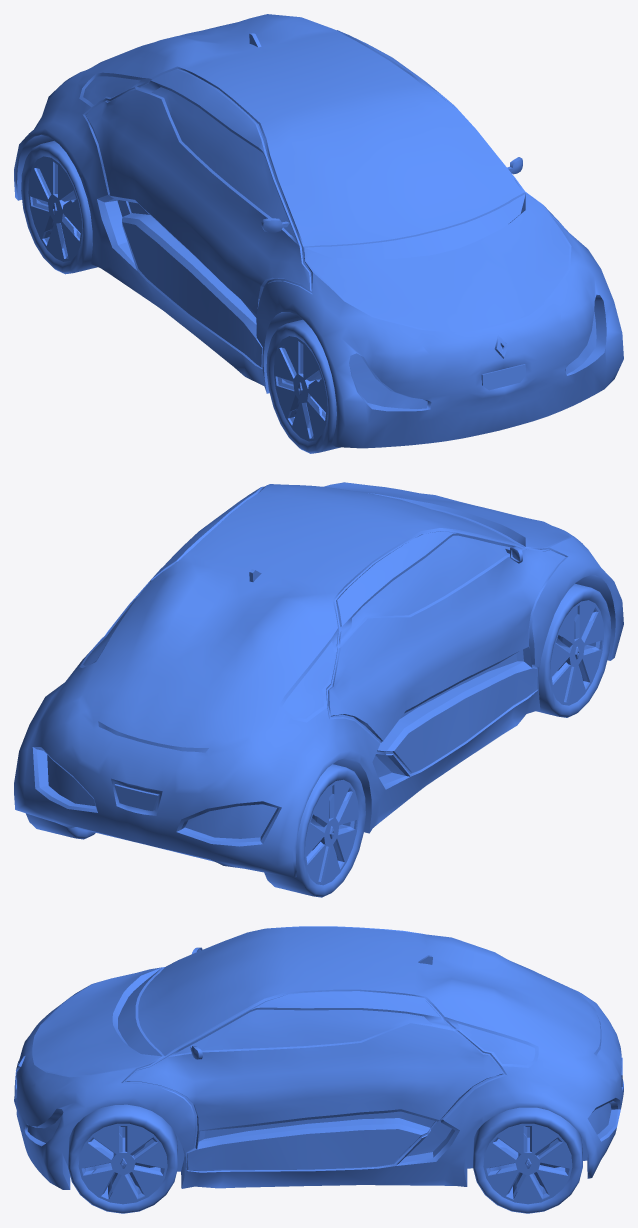
Rendered from SM_TitineBonus.FBX.
3 renders of one model, top to bottom at view 1: azimuth 30°, elevation 25°; view 2: azimuth 150°, elevation 25°; view 3: azimuth 270°, elevation 25°, orthographic. The views are drawn at different scales.
Visible parts, largest first — view 1: TitineBonus; view 2: TitineBonus; view 3: TitineBonus.
Part boxes in pixels (x1,y1,x2,y2): TitineBonus: (14,14,623,453); TitineBonus: (14,482,623,897); TitineBonus: (14,926,623,1213).
Bounding box in the file's own units: 23.49 × 53.44 × 19.59.
